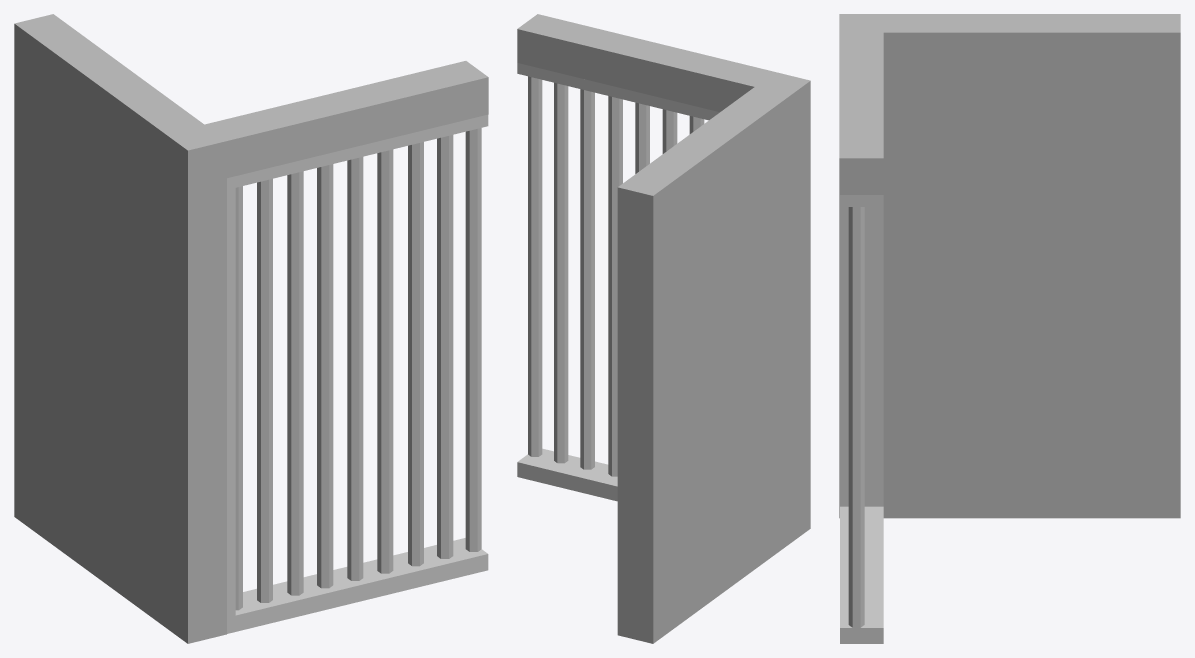
Rendered from P_Jail_Wall_Corner_Inside_3.fbx.
3 renders of one model, left to right at view 1: azimuth 30°, elevation 25°; view 2: azimuth 150°, elevation 25°; view 3: azimuth 270°, elevation 25°, orthographic. The views are drawn at different scales.
Parts seen in each view (by area): view 1: P_Jail_Wall_Corner_Inside_3; view 2: P_Jail_Wall_Corner_Inside_3; view 3: P_Jail_Wall_Corner_Inside_3.
Part boxes in pixels (box(x1,y1,x2,y2)): P_Jail_Wall_Corner_Inside_3: box(14, 14, 488, 643); P_Jail_Wall_Corner_Inside_3: box(517, 14, 810, 643); P_Jail_Wall_Corner_Inside_3: box(839, 14, 1180, 643).
Bounding box in the file's own units: 1000 × 1000 × 1568.
